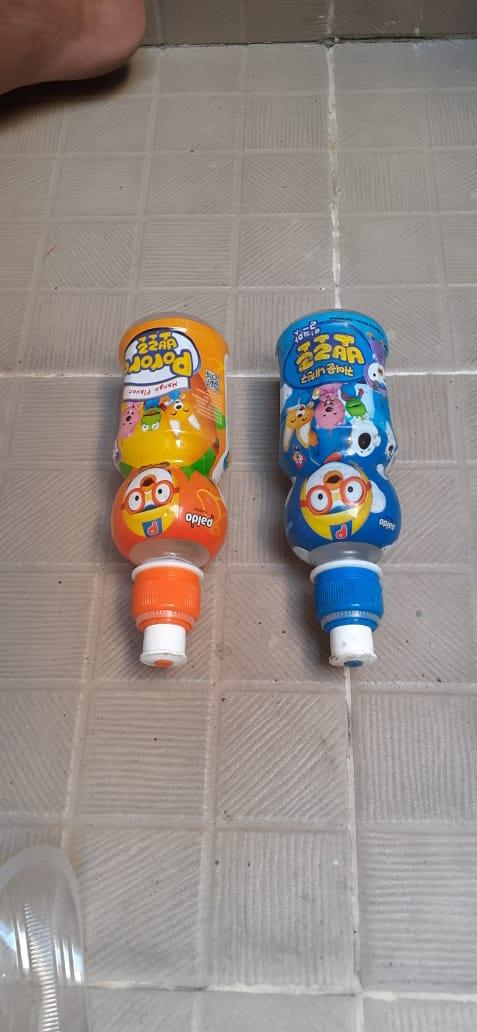Plastik: (109, 308, 235, 672), (276, 307, 402, 669)
